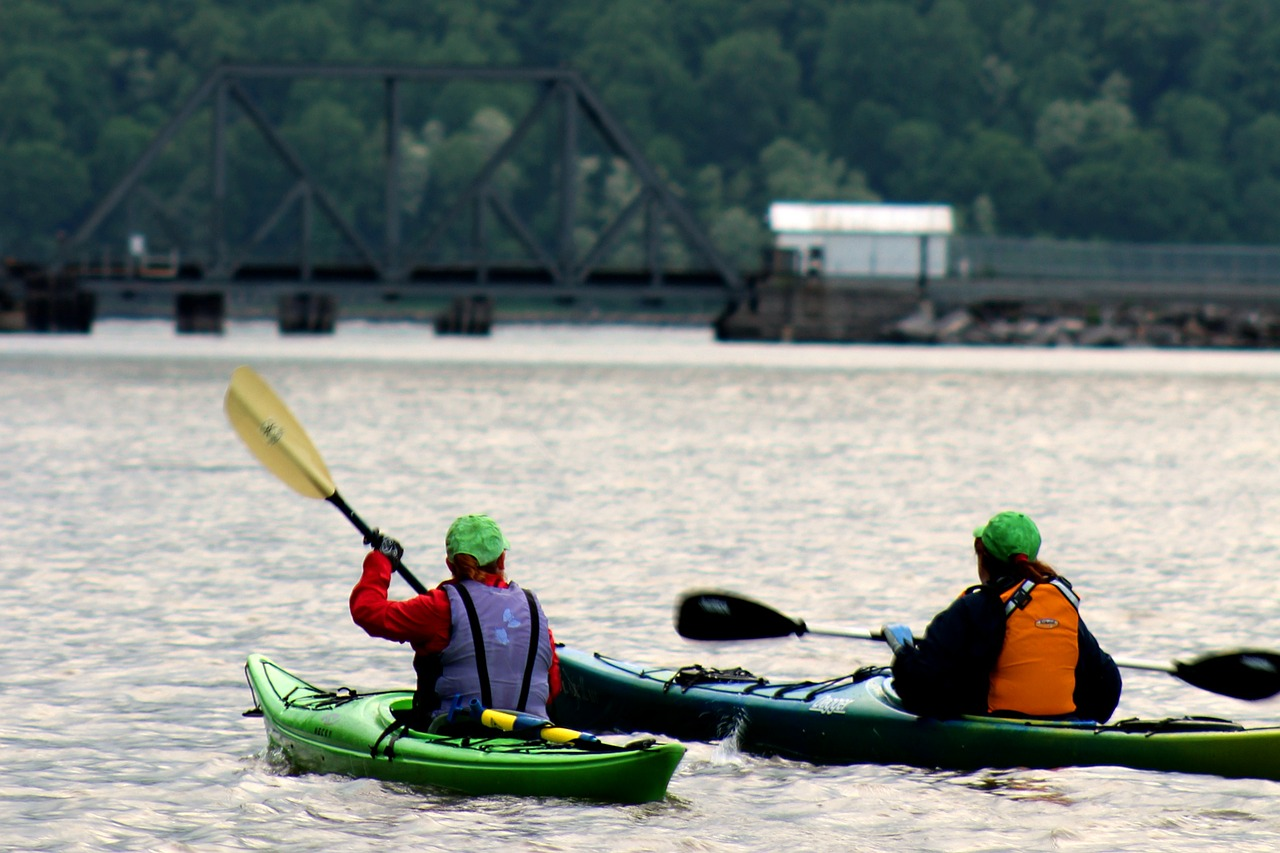kayak: (555, 643, 1280, 776), (242, 652, 688, 807)
